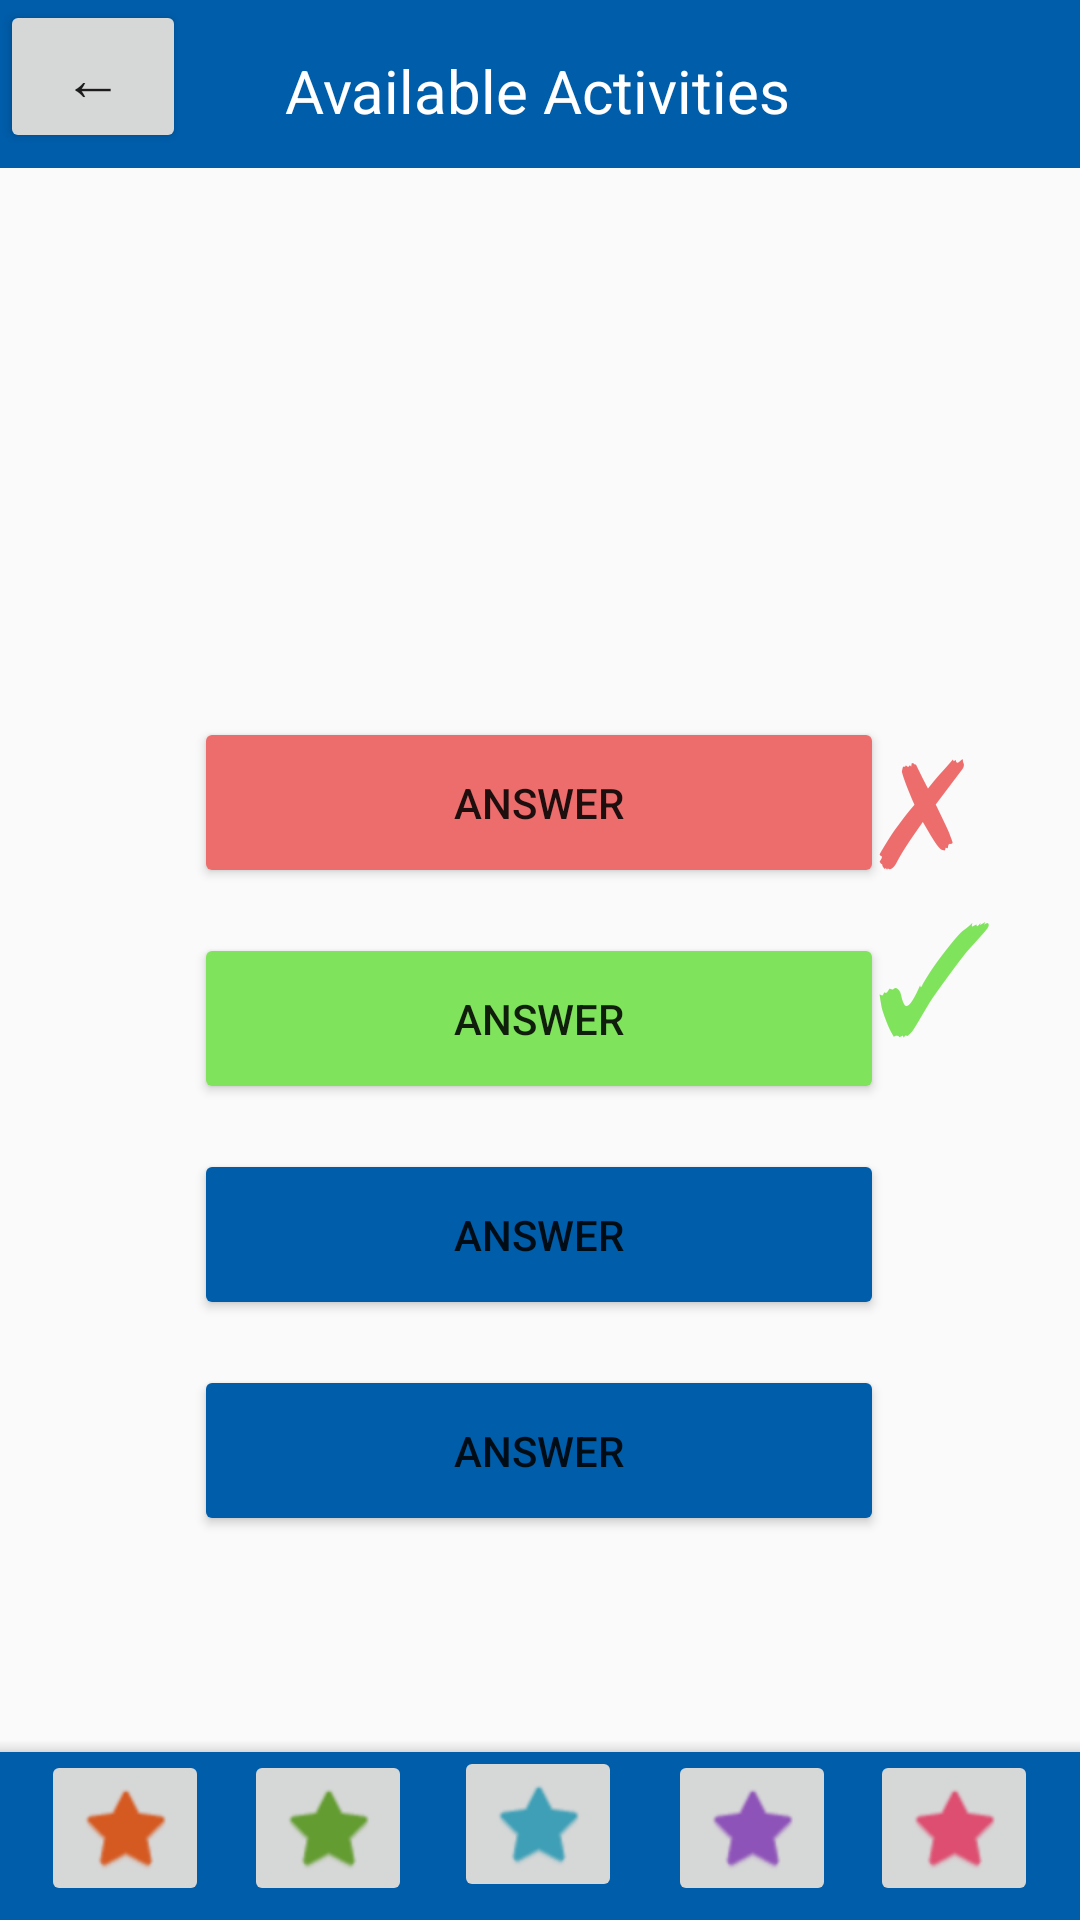

Locate icon controls on the screen. Image size 1080x1920, boxes as (x1,y1,x2,y2).
star on: (466,1764,610,1884), (53,1768,197,1888), (256,1768,400,1888), (680,1768,824,1888), (882,1768,1026,1888)
